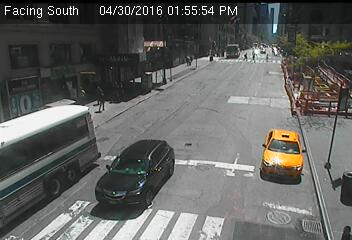neg: (238, 118, 297, 196)
